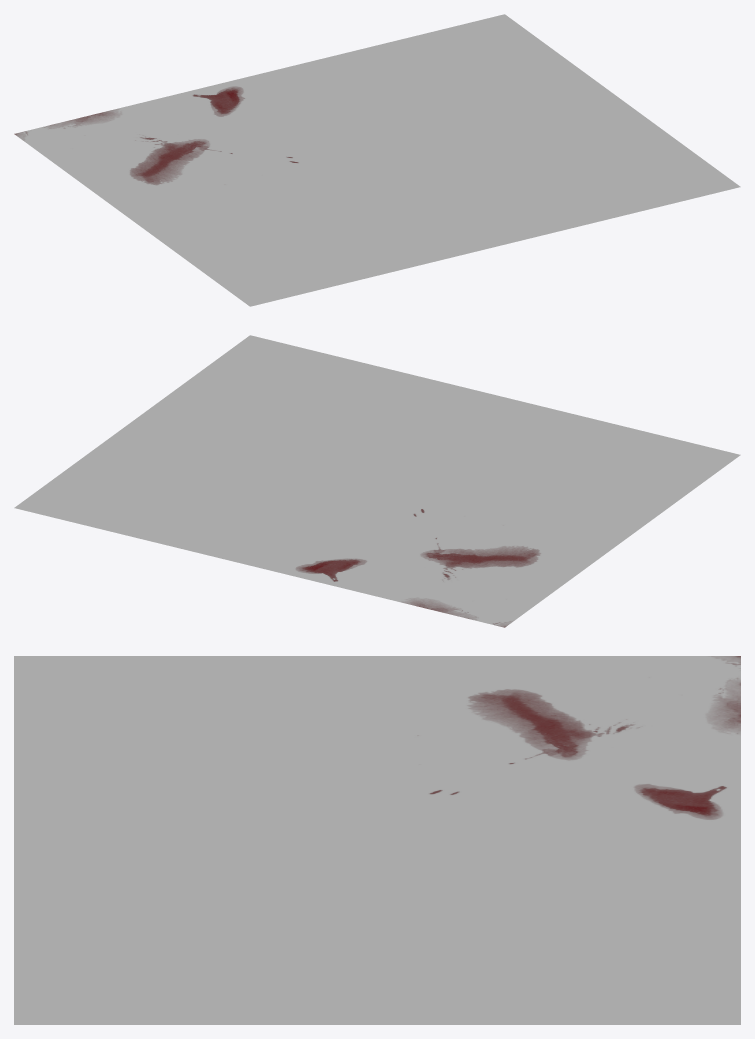
Rendered from blood_desk.fbx.
The picture shows the model from 3 angles, top to bottom: view 1: azimuth 30°, elevation 25°; view 2: azimuth 150°, elevation 25°; view 3: azimuth 270°, elevation 25°; orthographic projection. The views are drawn at different scales.
Parts seen in each view (by area): view 1: pPlane1; view 2: pPlane1; view 3: pPlane1.
Boxes of the visible parts, x1,y1,x2,y2 form: pPlane1: (14, 14, 740, 306); pPlane1: (14, 335, 740, 627); pPlane1: (14, 656, 740, 1024).
Size of the model in its own units: 2.57 by 0 by 2.14.
